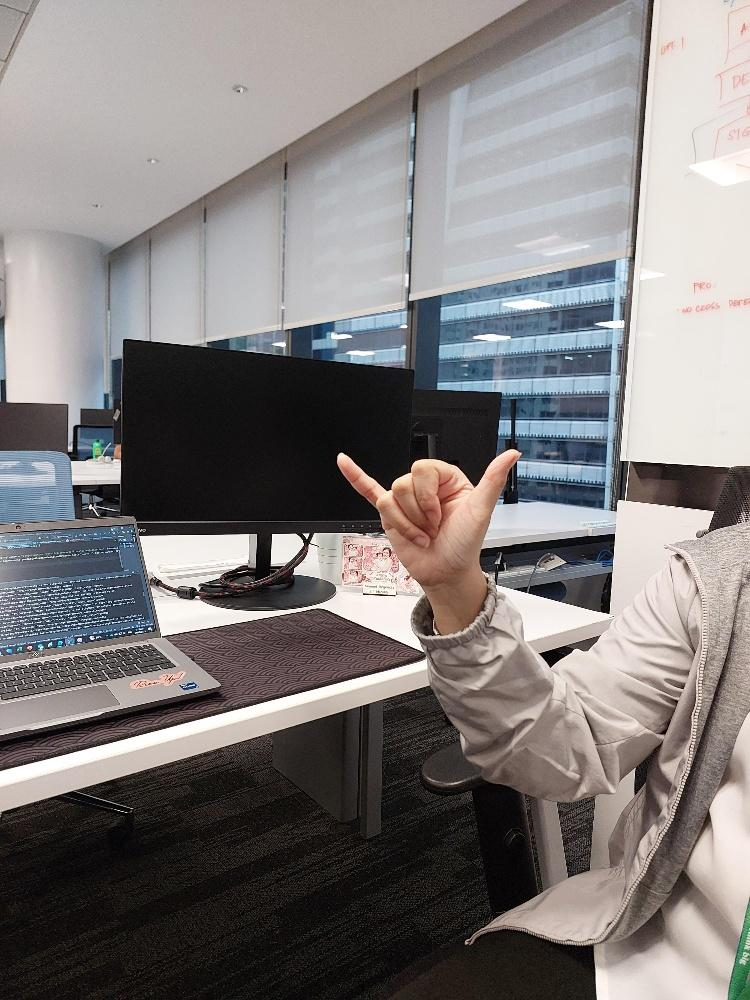y: (333, 446, 518, 581)
